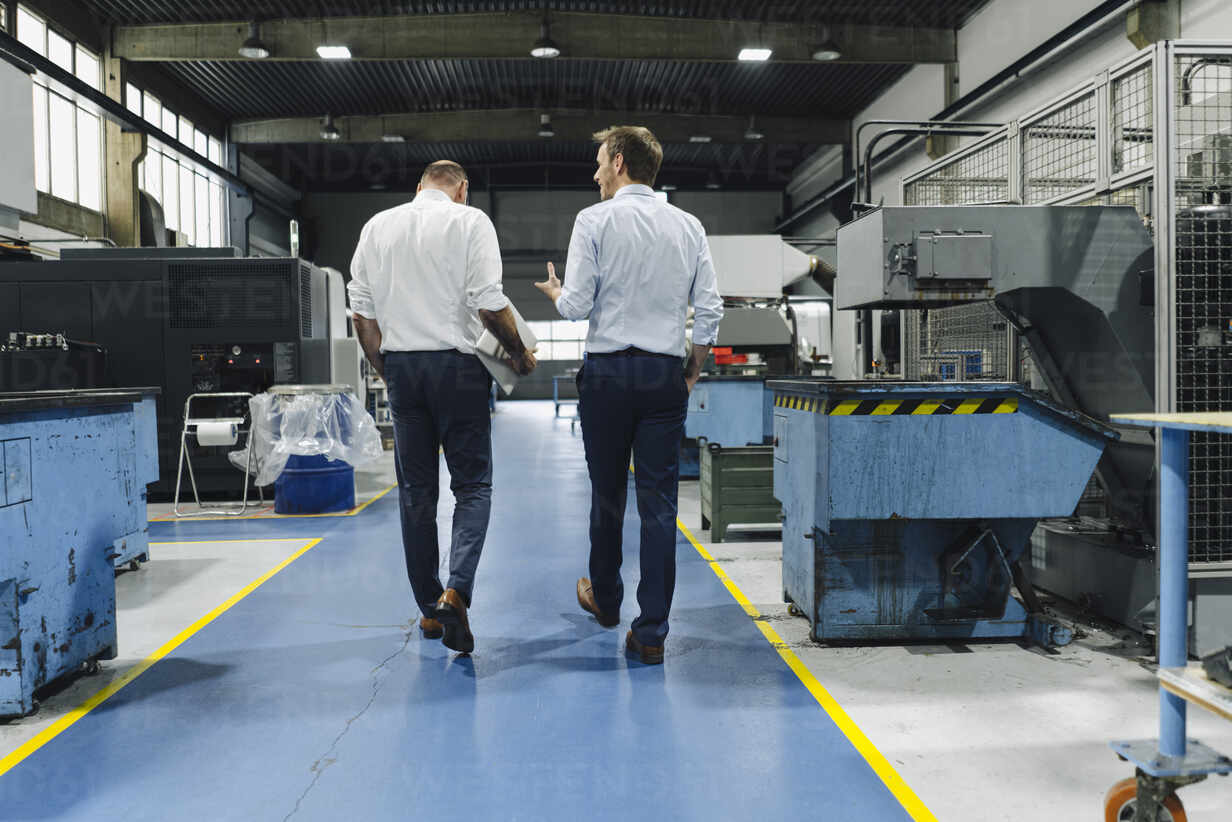person: (539, 122, 720, 660), (352, 160, 529, 654)
